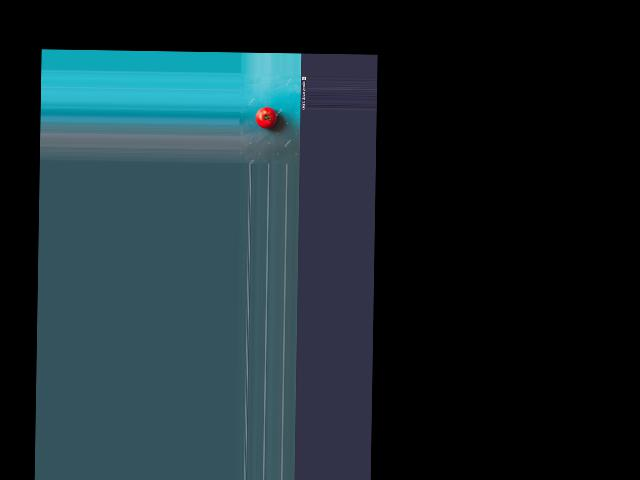tomato: (255, 107, 277, 128)
